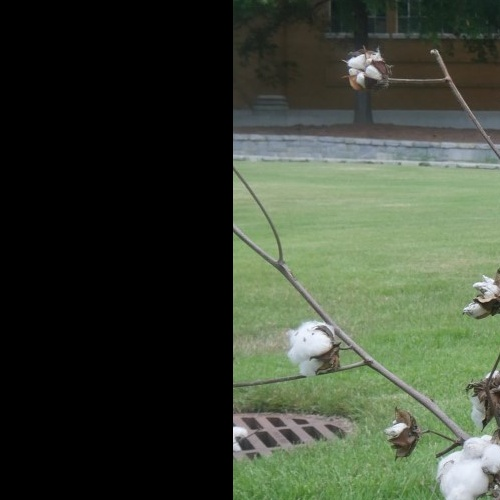mature_boll: (268, 307, 405, 425), (426, 384, 500, 500), (341, 34, 391, 104)
